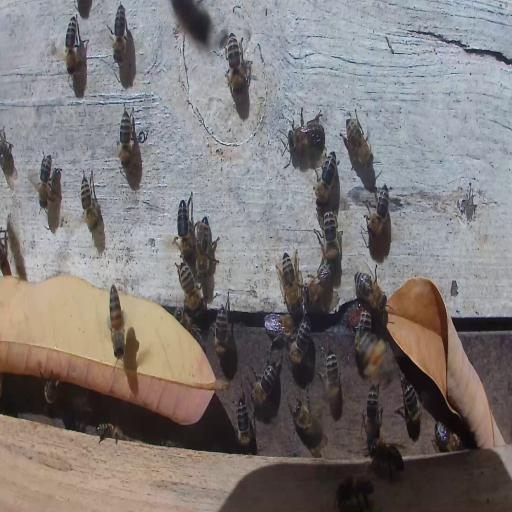nonpollenbee: (368, 434, 406, 483), (224, 30, 249, 96), (336, 472, 373, 512), (365, 182, 391, 237), (277, 249, 300, 311), (354, 266, 386, 310), (289, 118, 325, 157), (344, 117, 372, 167), (314, 148, 338, 205), (79, 170, 101, 232), (176, 264, 204, 312), (292, 398, 321, 444), (322, 348, 340, 420), (401, 379, 422, 439), (64, 14, 84, 76), (176, 193, 194, 258), (319, 211, 341, 263), (118, 105, 135, 170), (288, 318, 312, 363), (308, 260, 332, 304), (250, 363, 276, 403), (1, 126, 17, 188), (195, 217, 211, 277), (364, 384, 381, 440), (236, 394, 253, 449), (38, 150, 53, 212), (112, 3, 127, 64), (432, 423, 462, 453), (213, 303, 229, 355), (263, 314, 296, 338), (354, 309, 371, 355), (96, 421, 123, 442), (44, 378, 58, 406)
pollenbee: (106, 282, 129, 361), (361, 338, 392, 382)
